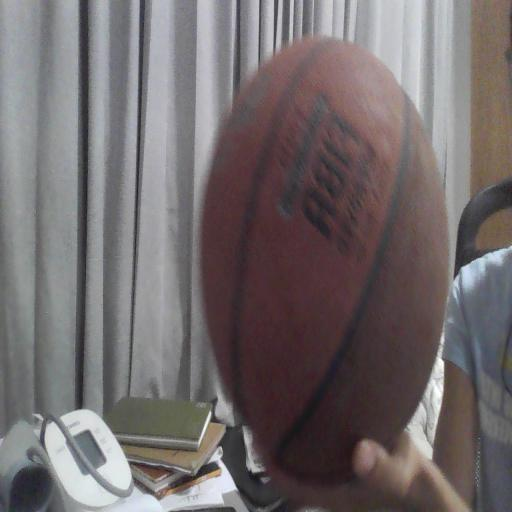basketball: (201, 39, 448, 482)
